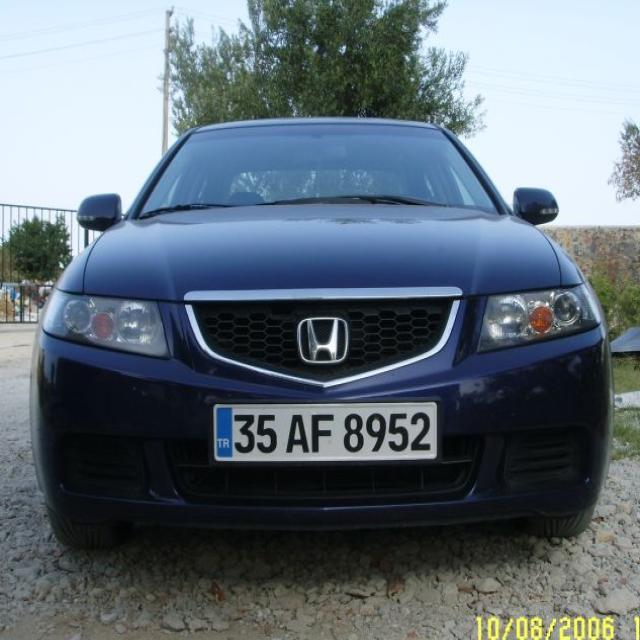license_plate: (211, 402, 438, 462)
